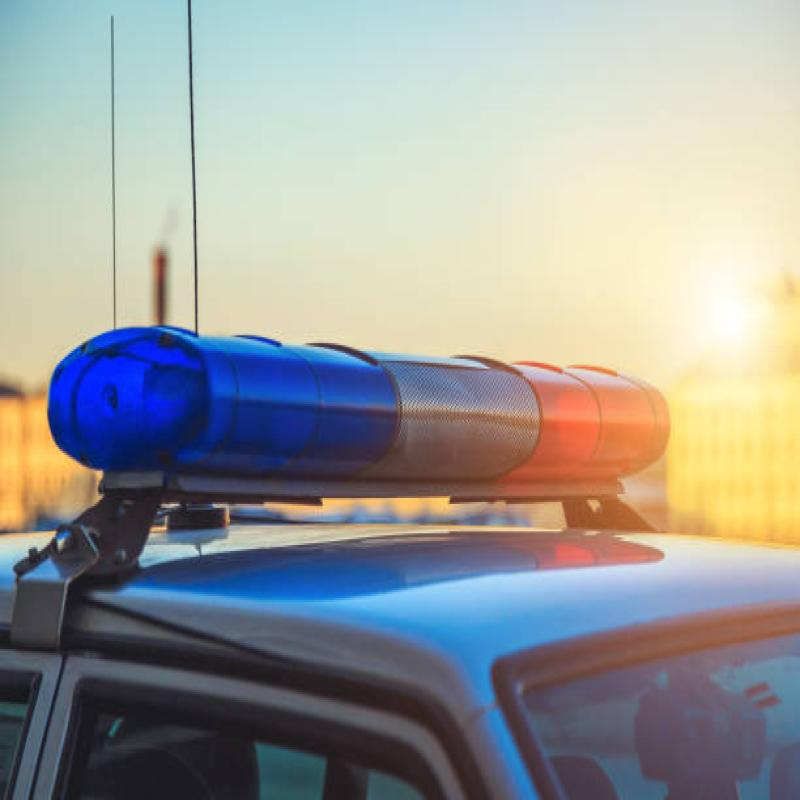AmbulanceSiren: (38, 319, 697, 522)
